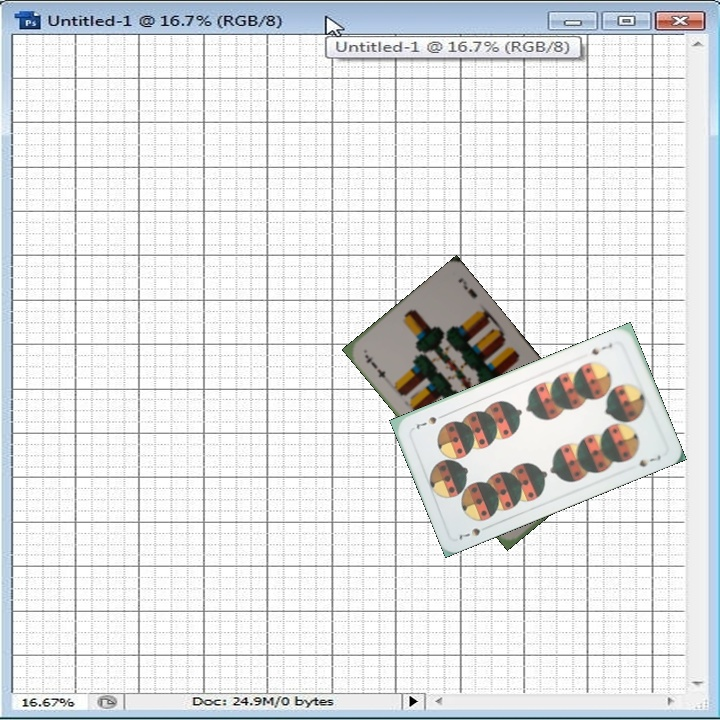E7: (361, 350, 388, 381)
S7: (455, 521, 493, 542), (587, 339, 615, 357)
